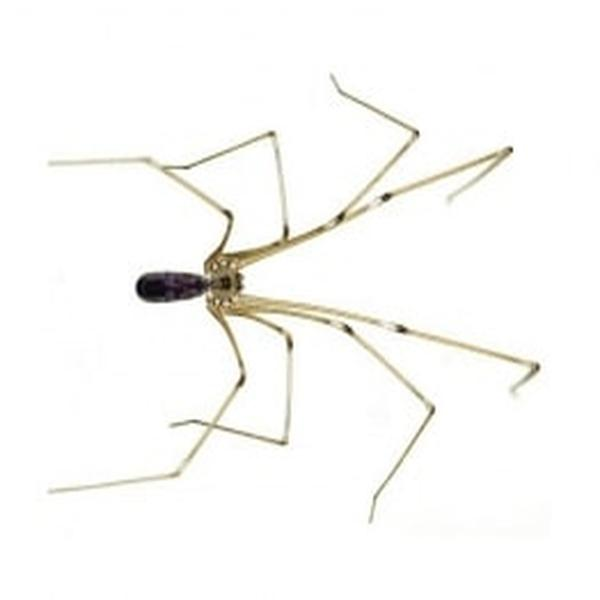Daddy Long Legs Spider: (49, 73, 541, 526)
